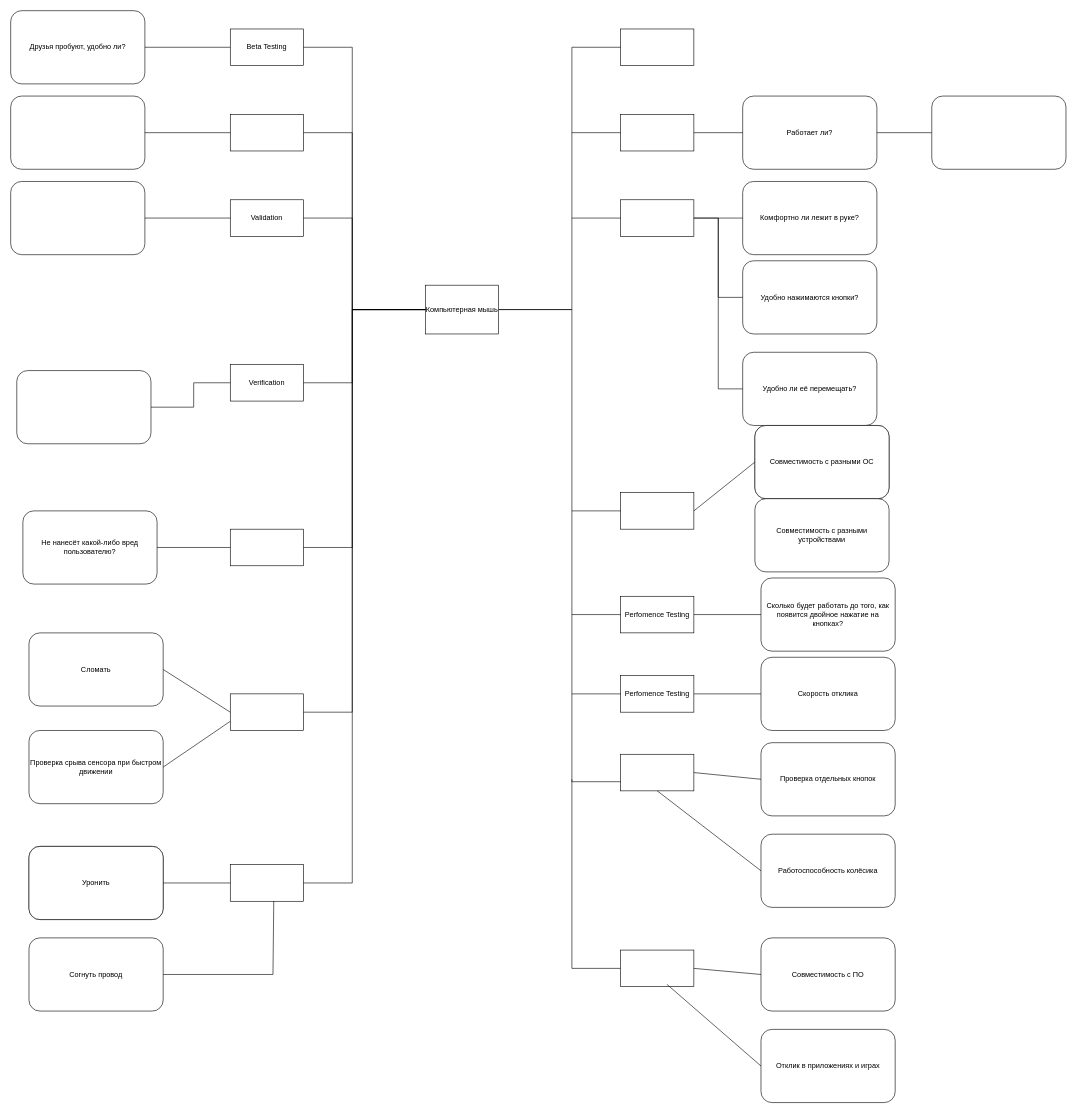
Some shapes in this 1077 by 1113 pixel diagram are drawn without their labels. The centre of each missing label's shape, as x and y in pixels:
Automated Testing: (266,132)
Black Box Testing: (657,47)
Compatability Testing: (657,510)
Component Testing: (657,772)
Functional Testing: (657,132)
Integration Testing: (657,968)
Negative Testing: (266,711)
Security Testing: (266,547)
Stress Testing: (266,882)
Usability Testing: (657,217)
Верно ли срабатывает?: (77,218)
Длина, толщина: (83,407)
Работают ли кнопки?: (998,132)
